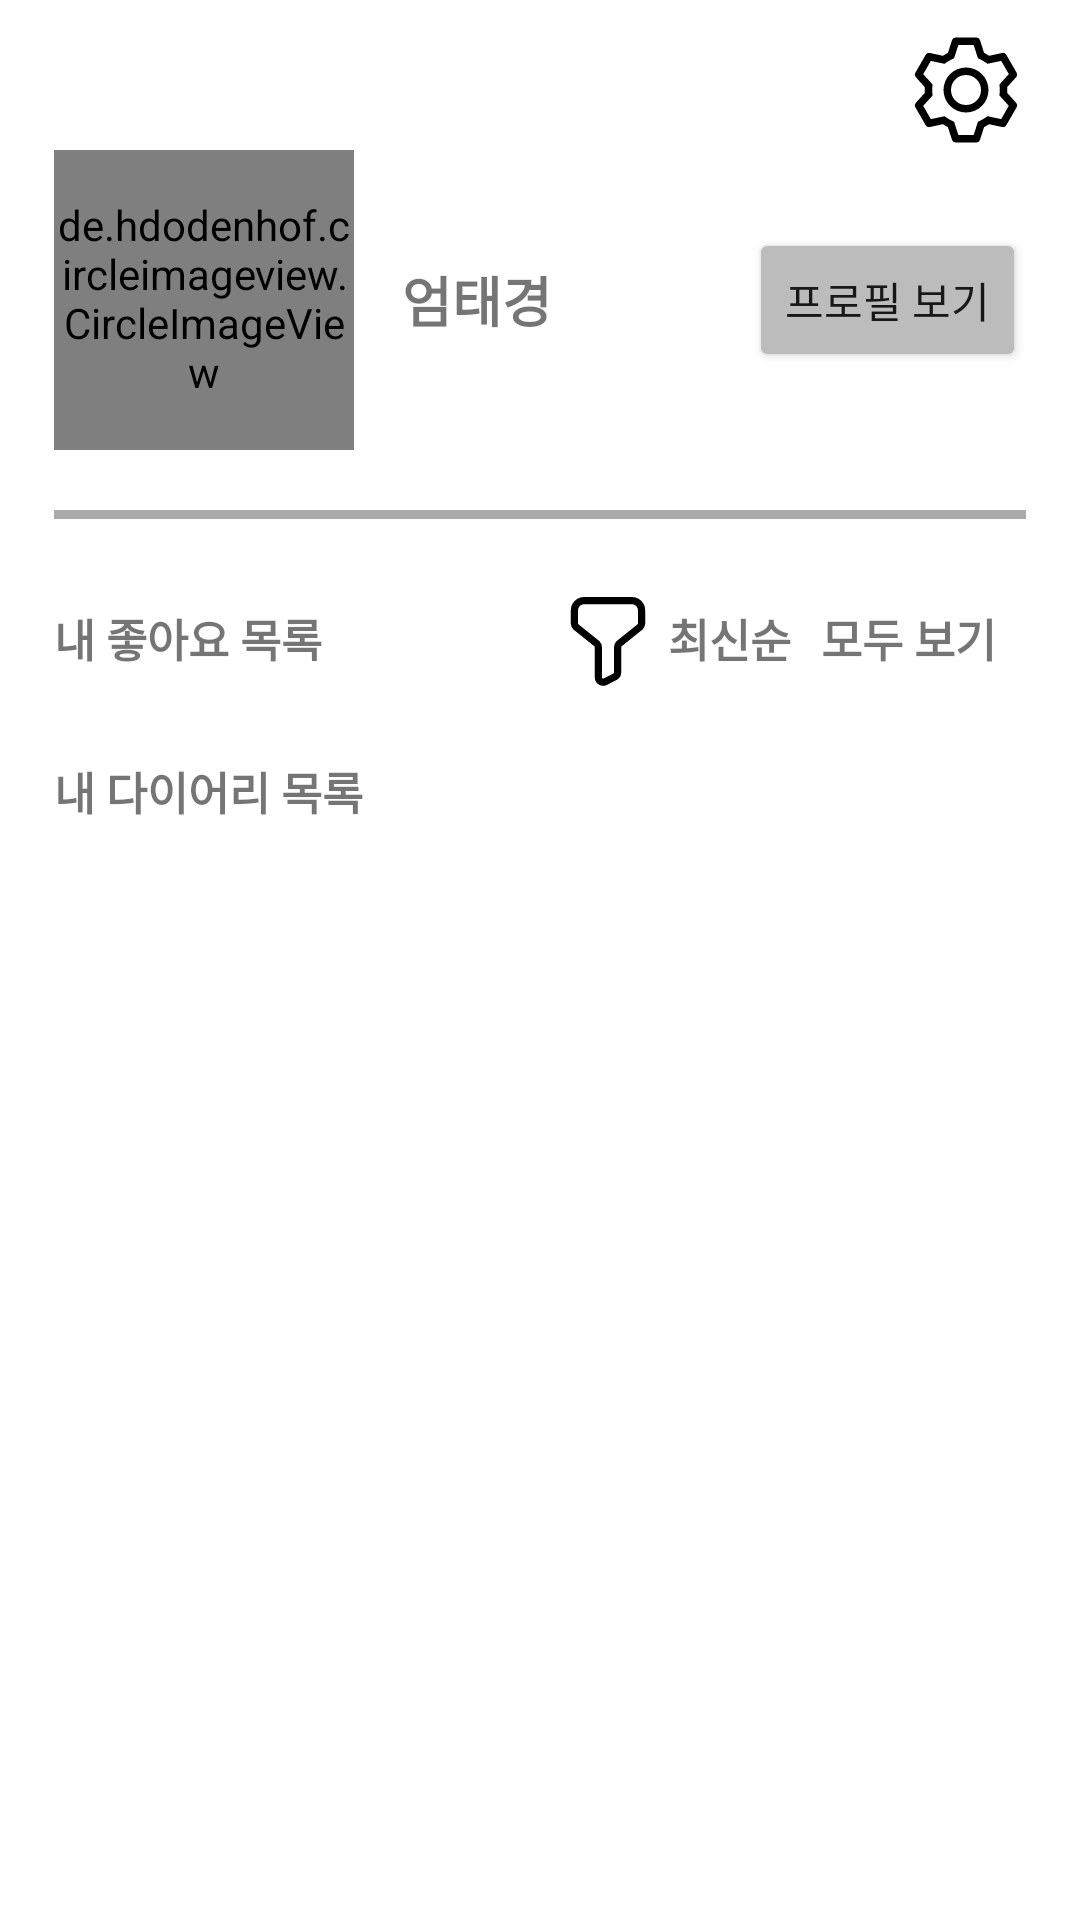

Where icons sit on this 1080 x 1920 app screen, as (x1,y1,x2,y2):
setting: (914,37,1017,143)
sort: (570,597,646,686)
